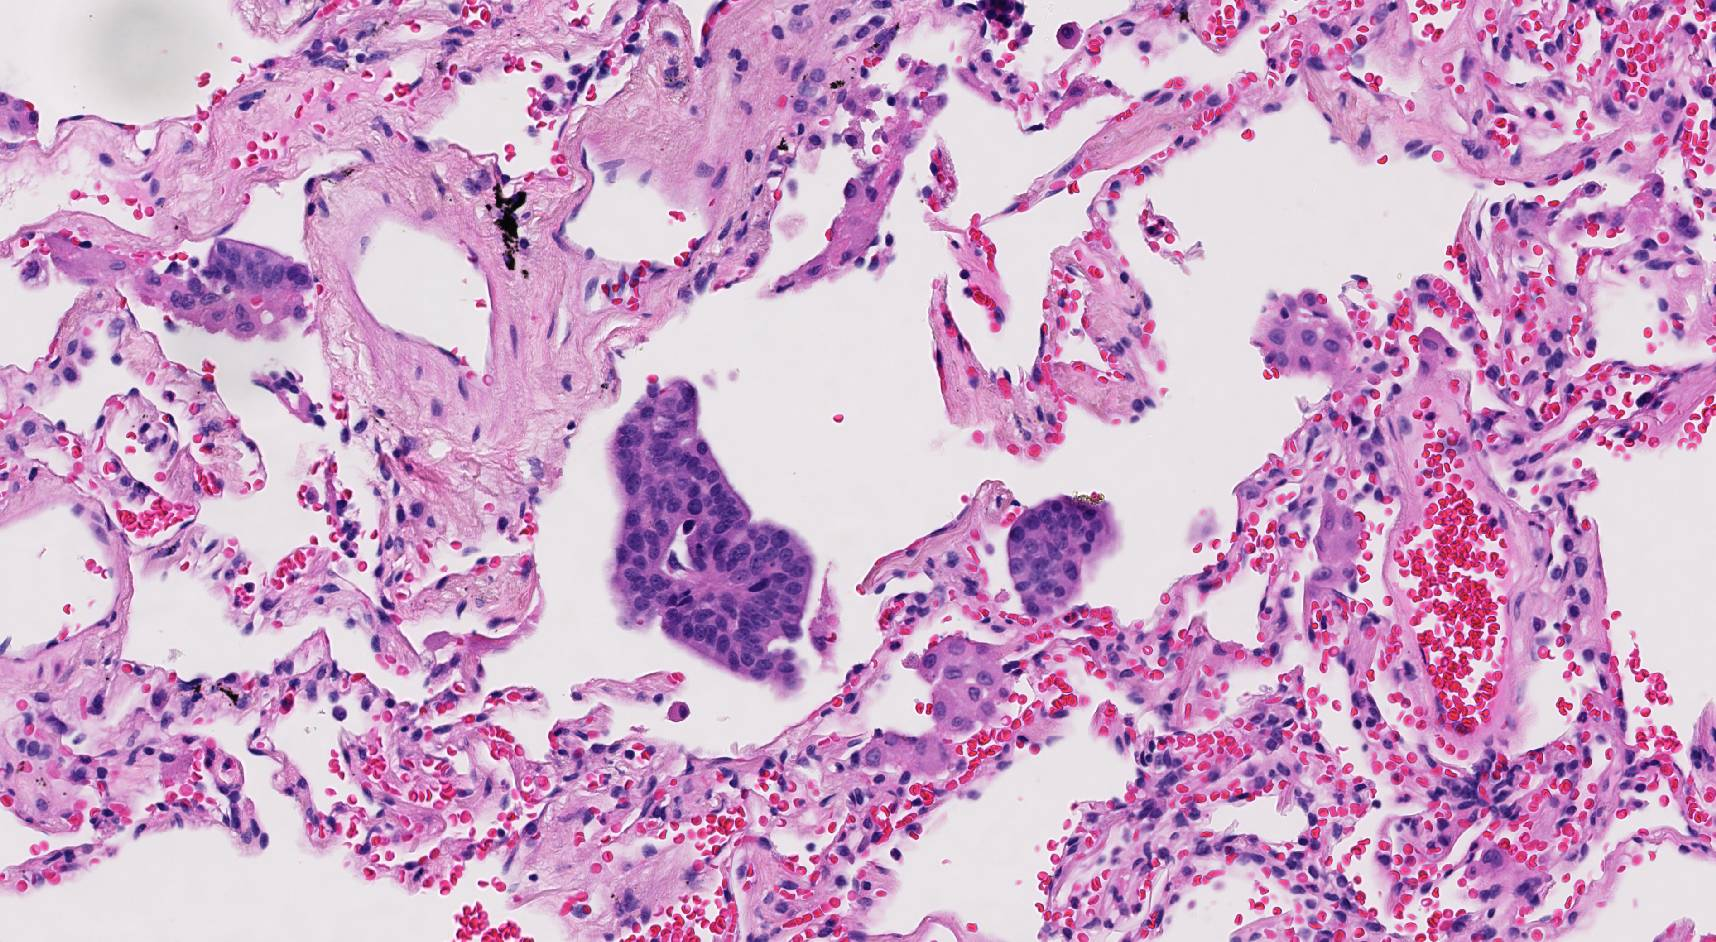stas: (607, 376, 814, 696), (1007, 494, 1129, 618), (206, 234, 314, 303)
